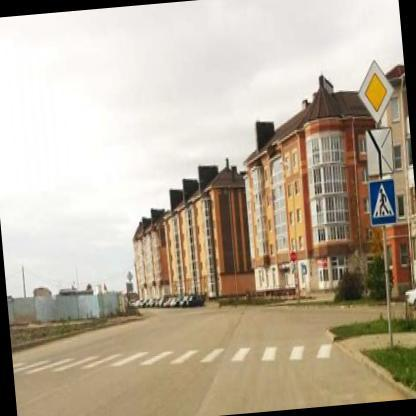road_sign: (358, 60, 393, 125), (364, 177, 395, 225), (366, 129, 394, 177)
